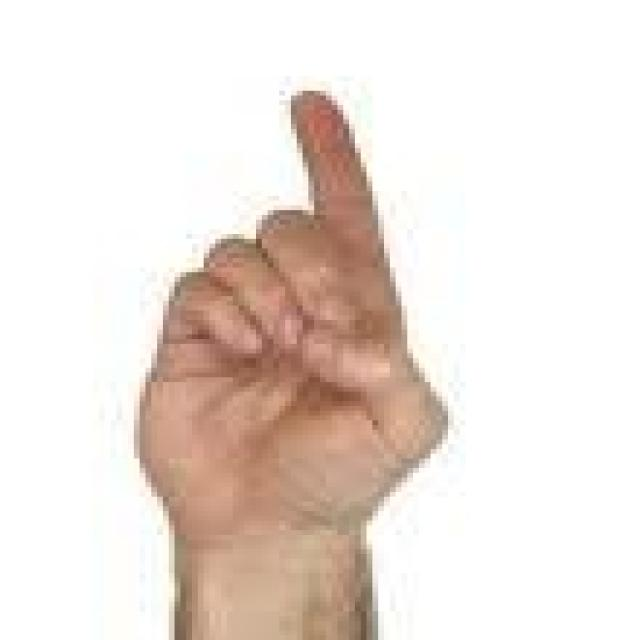D: (102, 81, 457, 554)
